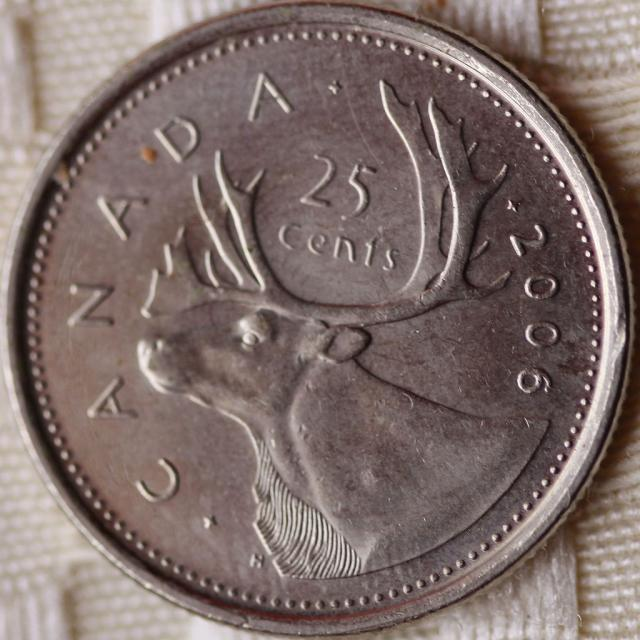Coin: (0, 0, 639, 636)
